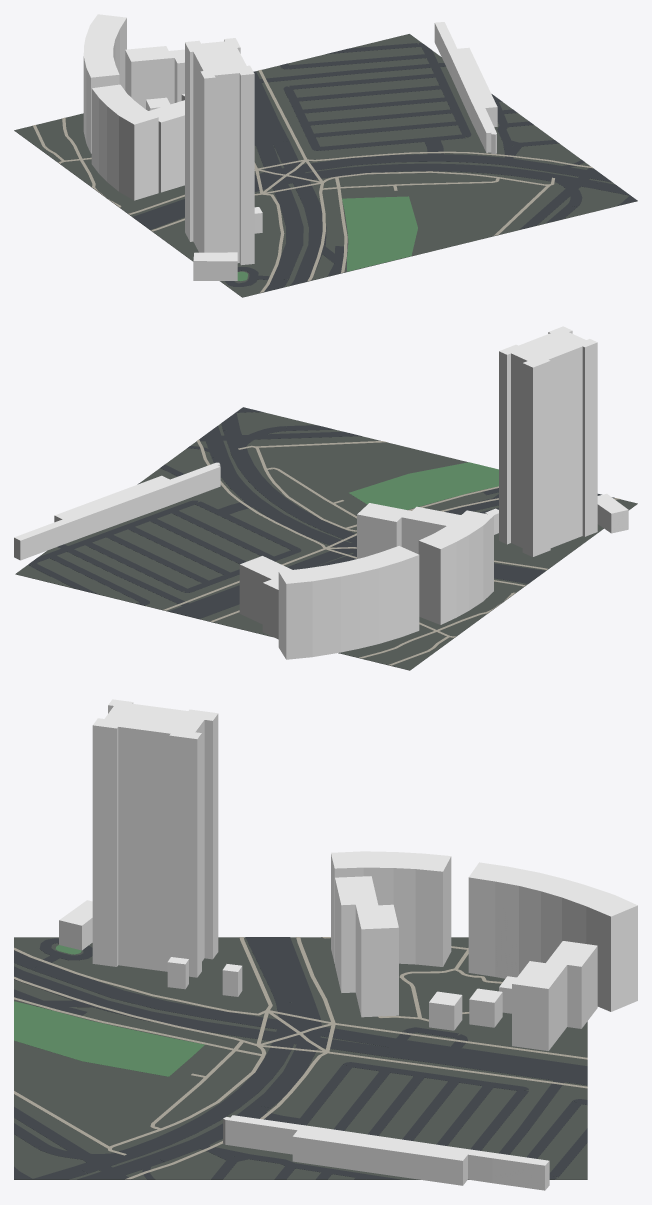
The model's file is tile_006_005.glb.
The picture shows the model from 3 angles, top to bottom: view 1: azimuth 30°, elevation 25°; view 2: azimuth 150°, elevation 25°; view 3: azimuth 270°, elevation 25°; orthographic projection. The views are drawn at different scales.
Parts seen in each view (by area): view 1: tile_006_005_ground, tile_006_005_roads, tile_006_005_buildings_residential, tile_006_005_buildings_neutral, tile_006_005_paths, tile_006_005_open_spaces; view 2: tile_006_005_buildings_residential, tile_006_005_ground, tile_006_005_buildings_neutral, tile_006_005_roads, tile_006_005_open_spaces, tile_006_005_paths; view 3: tile_006_005_ground, tile_006_005_buildings_residential, tile_006_005_roads, tile_006_005_buildings_neutral, tile_006_005_paths, tile_006_005_open_spaces.
Part boxes in pixels (x1=…): tile_006_005_ground: x1=14, y1=34, x2=637, y2=297; tile_006_005_roads: x1=133, y1=43, x2=637, y2=292; tile_006_005_buildings_residential: x1=83, y1=14, x2=254, y2=265; tile_006_005_buildings_neutral: x1=91, y1=22, x2=497, y2=280; tile_006_005_paths: x1=32, y1=70, x2=593, y2=292; tile_006_005_open_spaces: x1=237, y1=196, x2=417, y2=281; tile_006_005_buildings_residential: x1=239, y1=326, x2=597, y2=659; tile_006_005_ground: x1=15, y1=412, x2=637, y2=670; tile_006_005_buildings_neutral: x1=14, y1=462, x2=628, y2=624; tile_006_005_roads: x1=28, y1=407, x2=615, y2=618; tile_006_005_open_spaces: x1=349, y1=462, x2=498, y2=509; tile_006_005_paths: x1=163, y1=439, x2=620, y2=665; tile_006_005_ground: x1=14, y1=937, x2=587, y2=1179; tile_006_005_buildings_residential: x1=92, y1=699, x2=637, y2=1050; tile_006_005_roads: x1=14, y1=937, x2=587, y2=1179; tile_006_005_buildings_neutral: x1=59, y1=851, x2=549, y2=1190; tile_006_005_paths: x1=14, y1=937, x2=587, y2=1179; tile_006_005_open_spaces: x1=14, y1=945, x2=204, y2=1076.
Size of the model in its own units: 274 by 115 by 272.
